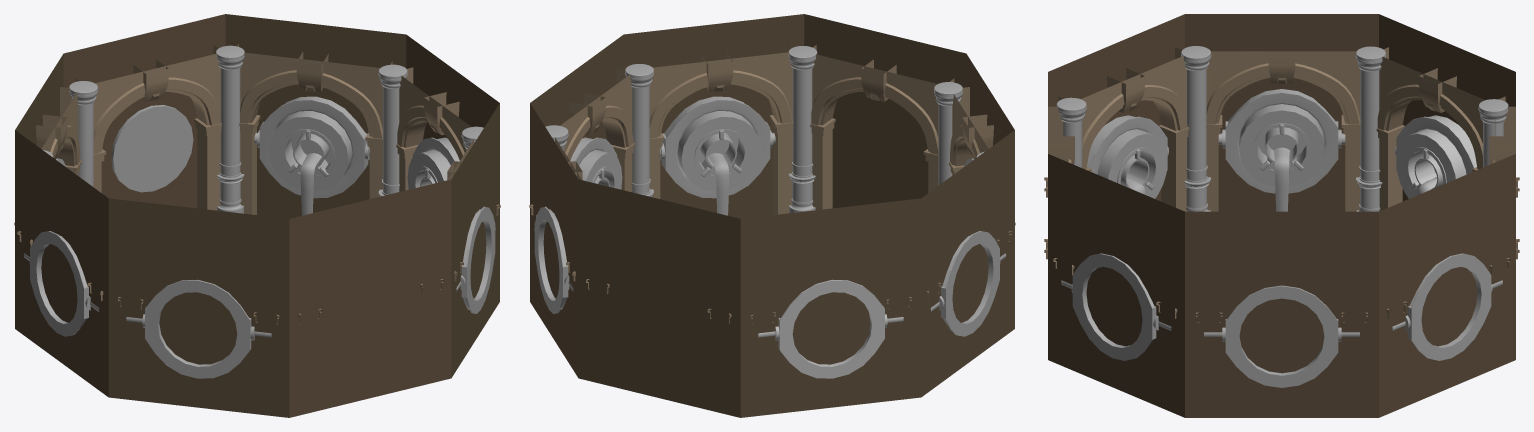
Rendered from BossWallCombined.fbx.
The picture shows the model from 3 angles, left to right: view 1: azimuth 30°, elevation 25°; view 2: azimuth 150°, elevation 25°; view 3: azimuth 270°, elevation 25°; orthographic projection. The views are drawn at different scales.
Parts seen in each view (by area): view 1: Boss_Wall, VatHolder (×5), Boss_Arch7, Boss_Arch, Vat (×2), Boss_Glass, Boss_Arch6, Boss_Pillar, Boss_Arch1, Boss_Pillar12, Boss_Pillar6, IchorFlow; view 2: Boss_Wall, VatHolder (×5), Boss_Arch5, Boss_Arch4, Vat (×2), Boss_Arch6, Boss_Pillar10, Boss_Pillar11, Boss_Arch3, Boss_Pillar9, IchorFlow; view 3: Boss_Wall, VatHolder (×6), Vat (×3), Boss_Arch2, Boss_Arch3, Boss_Arch1, Boss_Pillar8, Boss_Pillar7, Boss_Arch4, Boss_Pillar9, Boss_Pillar6, Boss_Arch (+1 smaller).
Part boxes in pixels (x1,y1,x2,y2): Boss_Wall: [15, 14, 499, 417]; VatHolder (×5): [23, 96, 495, 378]; Boss_Arch7: [237, 44, 392, 214]; Boss_Arch: [75, 45, 221, 210]; Vat (×2): [268, 111, 450, 191]; Boss_Glass: [111, 105, 193, 192]; Boss_Arch6: [396, 67, 471, 191]; Boss_Pillar: [216, 45, 244, 213]; Boss_Arch1: [14, 87, 81, 225]; Boss_Pillar12: [378, 64, 407, 196]; Boss_Pillar6: [69, 81, 98, 186]; IchorFlow: [300, 153, 321, 215]; Boss_Wall: [530, 14, 1014, 417]; VatHolder (×5): [534, 96, 1006, 378]; Boss_Arch5: [637, 44, 793, 214]; Boss_Arch4: [810, 45, 954, 210]; Vat (×2): [579, 111, 761, 191]; Boss_Arch6: [560, 67, 634, 192]; Boss_Pillar10: [788, 46, 817, 213]; Boss_Pillar11: [625, 64, 653, 196]; Boss_Arch3: [949, 87, 1015, 225]; Boss_Pillar9: [934, 82, 962, 185]; IchorFlow: [708, 153, 729, 215]; Boss_Wall: [1048, 14, 1515, 417]; VatHolder (×6): [1061, 89, 1502, 387]; Vat (×3): [1097, 104, 1466, 198]; Boss_Arch2: [1206, 51, 1360, 211]; Boss_Arch3: [1058, 47, 1189, 211]; Boss_Arch1: [1376, 47, 1505, 211]; Boss_Pillar8: [1181, 46, 1211, 211]; Boss_Pillar7: [1355, 46, 1386, 211]; Boss_Arch4: [1044, 106, 1074, 259]; Boss_Pillar9: [1056, 97, 1086, 167]; Boss_Pillar6: [1478, 99, 1508, 167]; Boss_Arch: [1489, 106, 1519, 259].
Bounding box in the file's own units: 5182 × 2610 × 5133.
